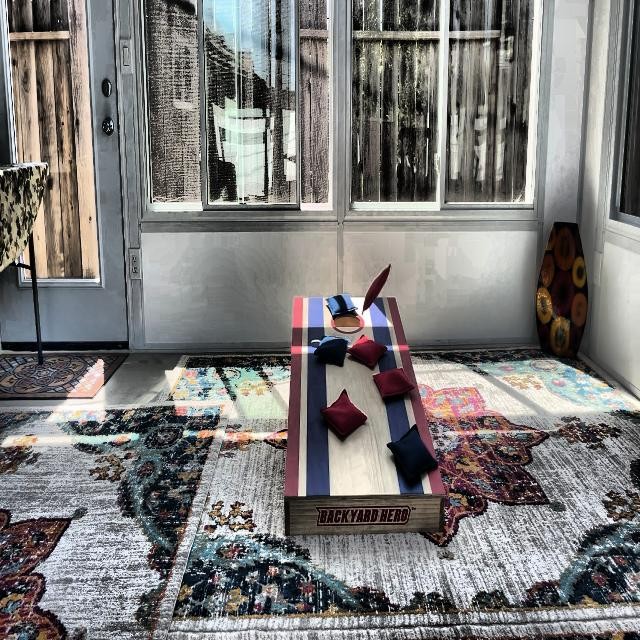blue-bean-bag: (387, 424, 437, 482), (314, 334, 348, 366), (326, 296, 358, 318)
board: (290, 298, 411, 495)
hole: (331, 309, 364, 334)
red-bean-bag: (321, 389, 367, 437), (361, 262, 390, 314), (347, 335, 387, 368), (373, 368, 414, 398)
